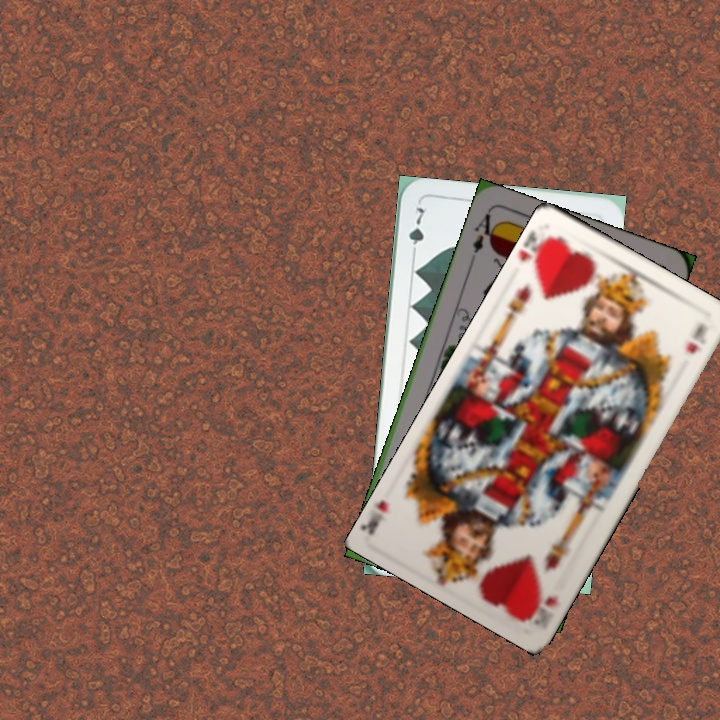EA: (466, 208, 502, 266)
G7: (404, 203, 427, 261)
HK: (516, 228, 557, 276), (530, 590, 562, 628)
